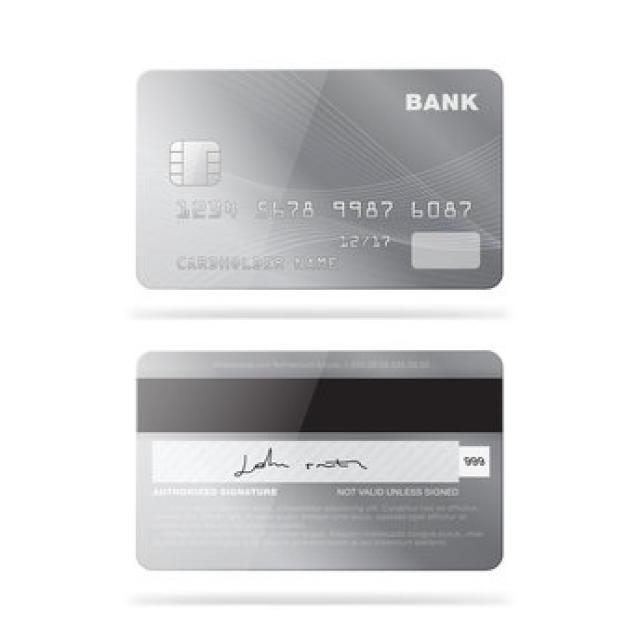payment_card: (134, 67, 504, 290), (134, 349, 504, 571)
